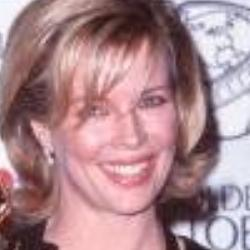face: (8, 2, 213, 203)
